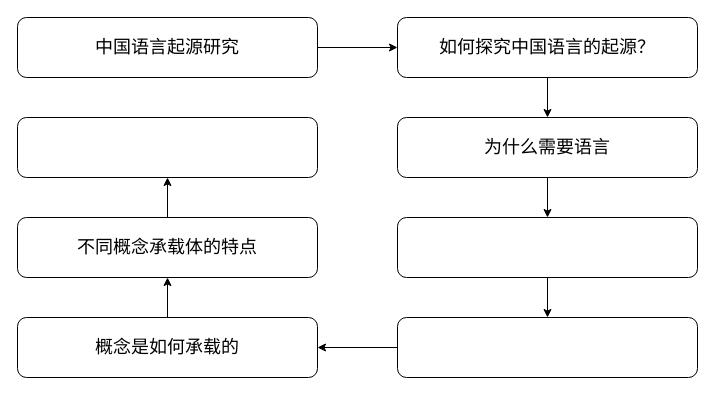
The diagram is 715 pixels wide and 395 high, and some of its shapes have lost their labels. Here are the shapes that lost their labels. From the top down, the centre of each, then its label:
At [167,147]: "发音承载概念".
At [547,247]: "语言是如何形成的".
At [547,347]: "概念是如何形成的".
